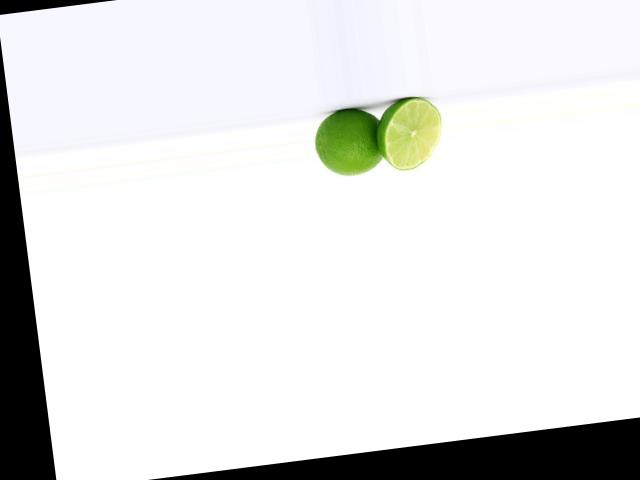lemon: (308, 100, 387, 181)
